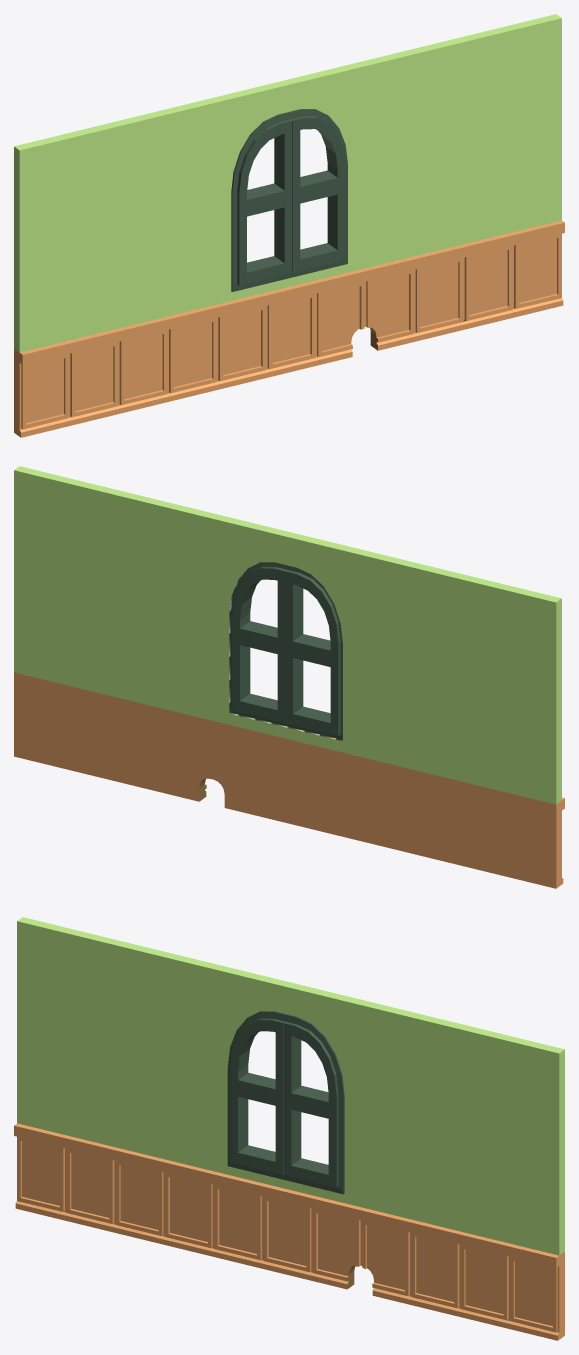
The model's file is faredelikliduvar.fbx.
3 views of the same model, one above another, from view 1: azimuth 30°, elevation 25°; view 2: azimuth 150°, elevation 25°; view 3: azimuth 330°, elevation 25° (orthographic).
Visible parts, largest first — view 1: Cube.052; view 2: Cube.052; view 3: Cube.052.
Part boxes in pixels (x1,y1,x2,y2): Cube.052: [14, 14, 564, 437]; Cube.052: [14, 466, 564, 888]; Cube.052: [14, 917, 564, 1340].
Bounding box in the file's own units: 1889 × 61.87 × 953.
